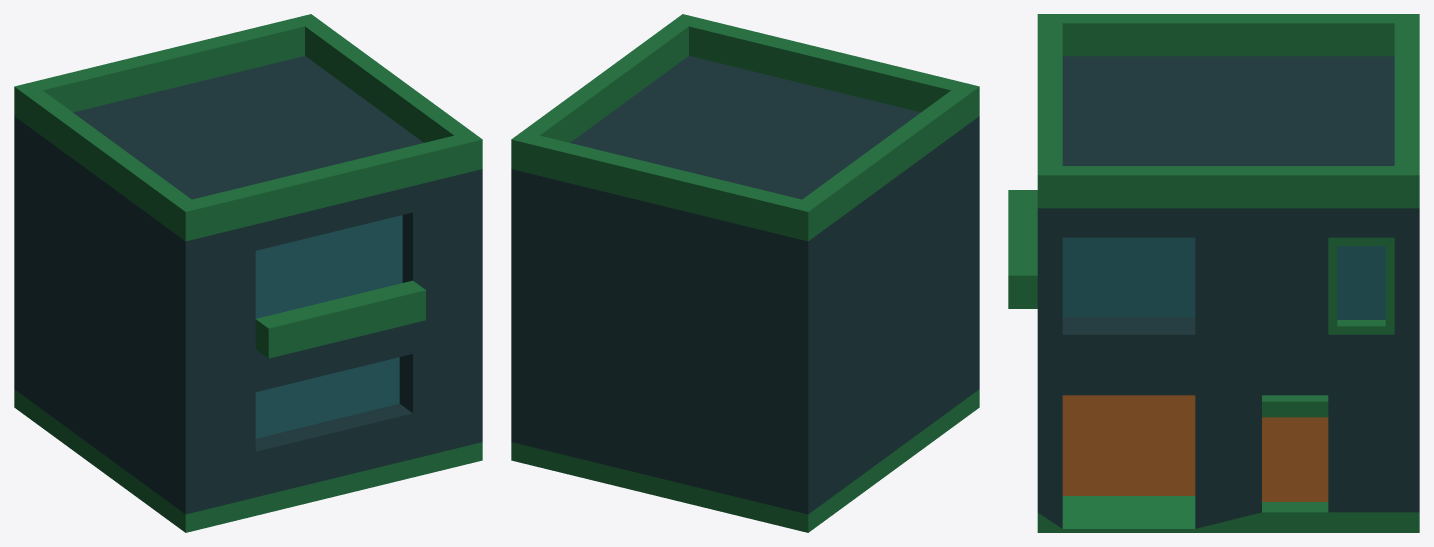
File: casa27abril.fbx
3 renders of one model, left to right at view 1: azimuth 30°, elevation 25°; view 2: azimuth 150°, elevation 25°; view 3: azimuth 270°, elevation 25°, orthographic. The views are drawn at different scales.
Parts seen in each view (by area): view 1: Cube; view 2: Cube; view 3: Cube.
Part boxes in pixels (<box>): Cube: <box>14,14,482,532</box>; Cube: <box>511,14,979,532</box>; Cube: <box>1008,14,1419,532</box>.
Bounding box in the file's own units: 208 × 206 × 215.
Materials: 1 (1 with a texture image).
